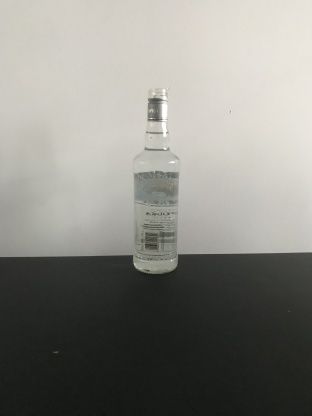nakretka: (145, 86, 170, 123)
